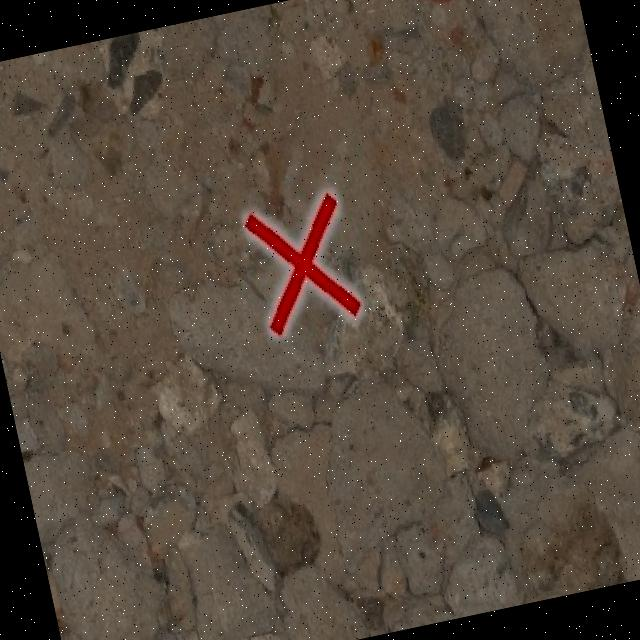x_marker: (242, 190, 361, 335)
